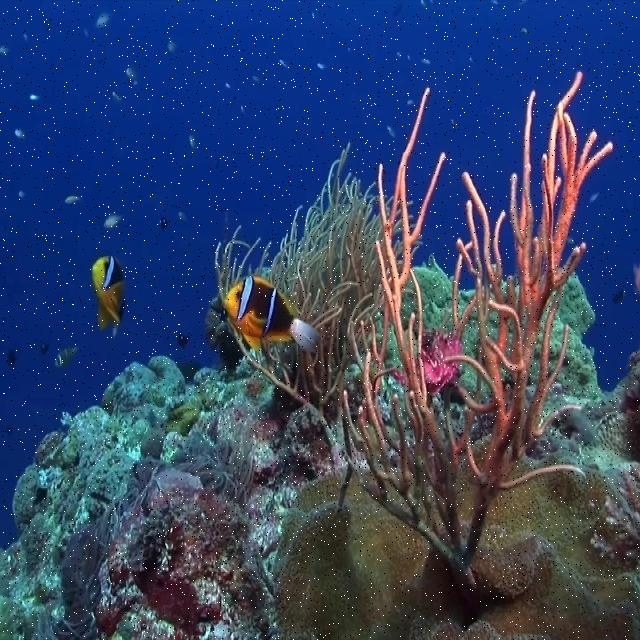aquatic plants: (340, 71, 614, 627), (215, 140, 386, 444)
fish: (224, 276, 319, 354), (92, 255, 126, 338)
reefs: (271, 469, 638, 639)
